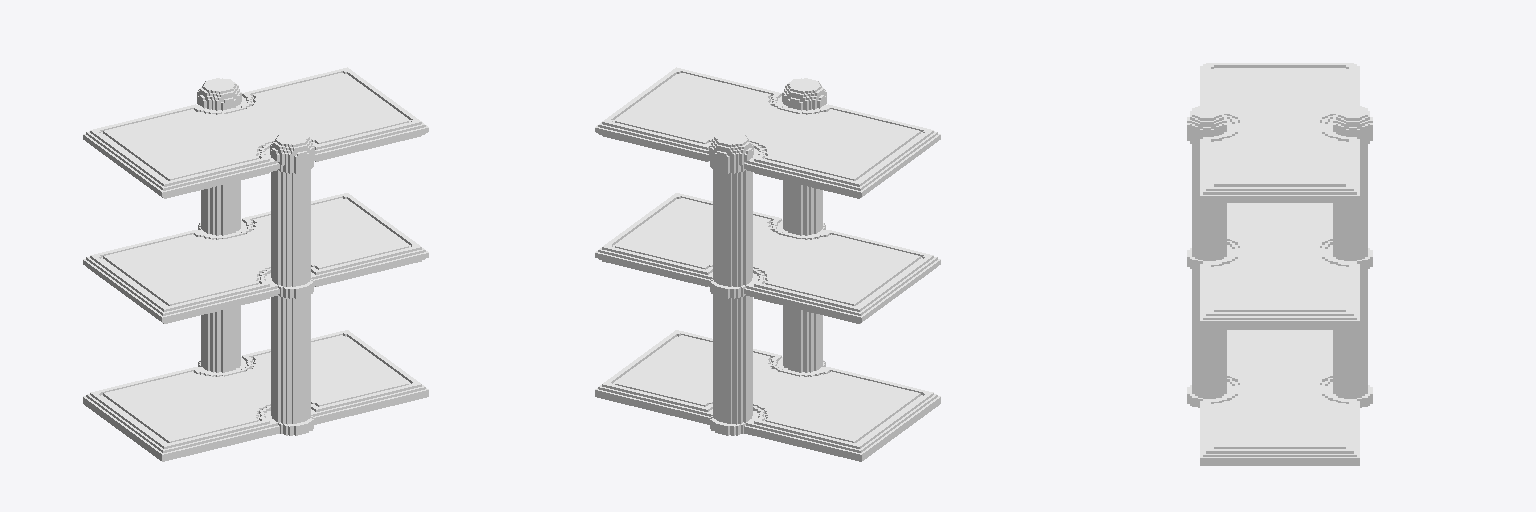
Rendered from bureau_mobilier-6.obj.
The picture shows the model from 3 angles: view 1: azimuth 30°, elevation 25°; view 2: azimuth 150°, elevation 25°; view 3: azimuth 270°, elevation 25°; orthographic projection.
Visible parts, largest first — view 1: object 1; view 2: object 1; view 3: object 1.
Boxes of the visible parts, <box> form: object 1: <box>83,67,428,461</box>; object 1: <box>595,67,940,461</box>; object 1: <box>1187,63,1372,465</box>.
Bounding box in the file's own units: 11.6 × 12 × 7.